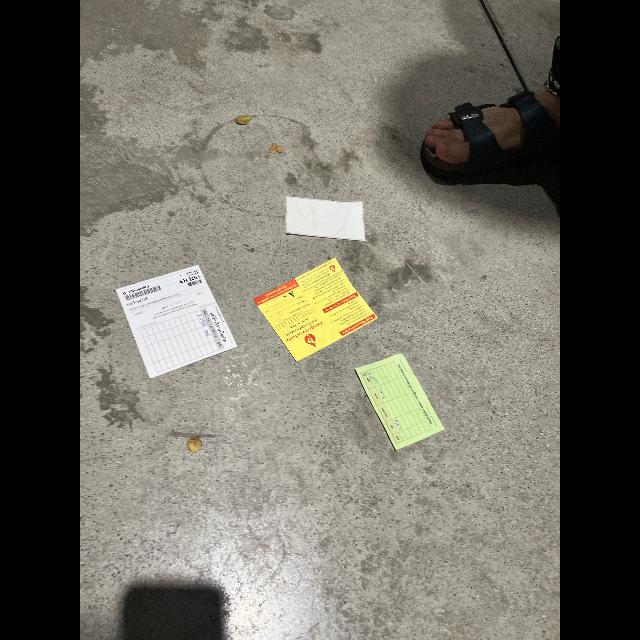scrap_paper: (100, 256, 252, 390), (253, 254, 389, 360), (345, 351, 451, 455), (274, 192, 376, 244)
